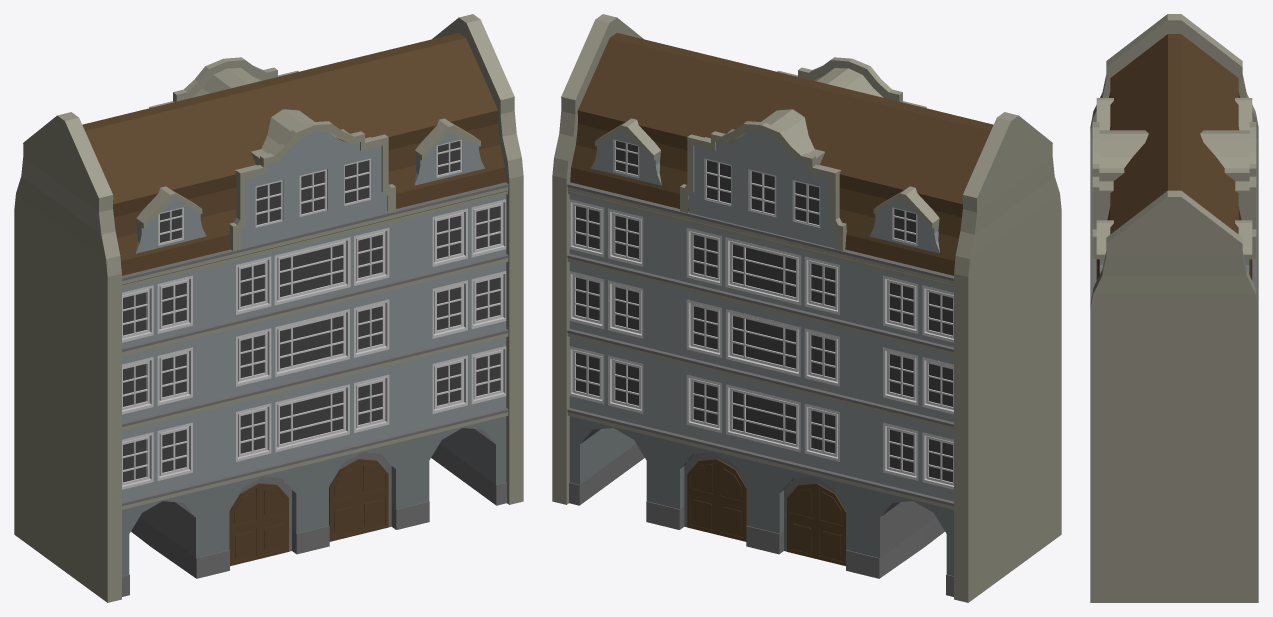
Rendered from Building2_Large.glb.
The picture shows the model from 3 angles, left to right: view 1: azimuth 30°, elevation 25°; view 2: azimuth 150°, elevation 25°; view 3: azimuth 270°, elevation 25°; orthographic projection. The views are drawn at different scales.
Parts seen in each view (by area): view 1: Building2_Large; view 2: Building2_Large; view 3: Building2_Large.
Boxes of the visible parts, x1,y1,x2,y2 form: Building2_Large: (14,14,523,602); Building2_Large: (552,14,1061,602); Building2_Large: (1090,14,1258,602).
Size of the model in its own units: 572 by 592 by 222.
